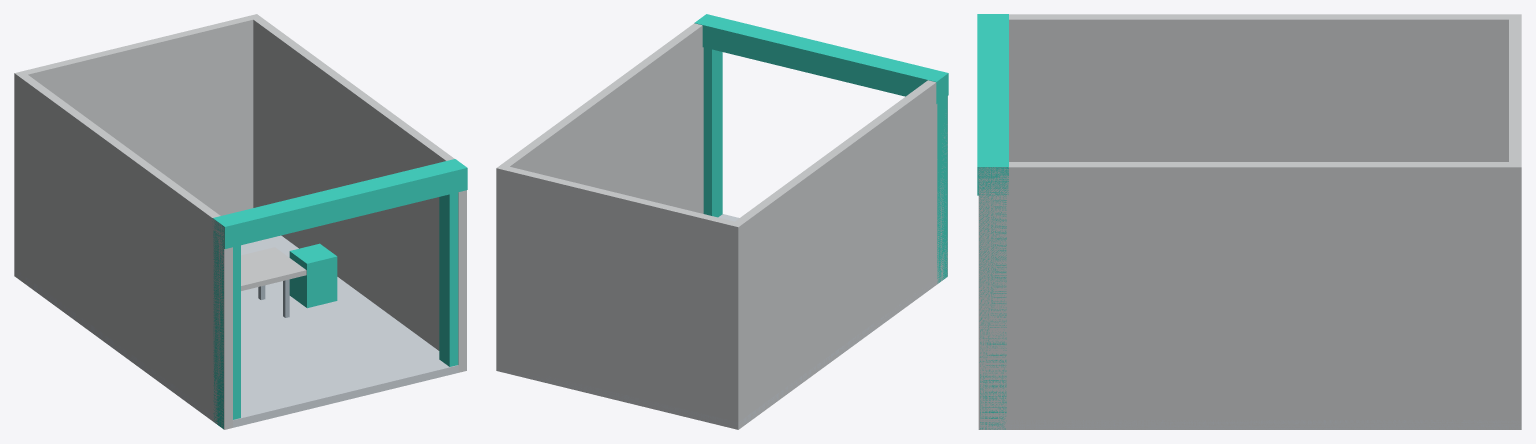
The picture shows the model from 3 angles, left to right: view 1: azimuth 30°, elevation 25°; view 2: azimuth 150°, elevation 25°; view 3: azimuth 270°, elevation 25°; orthographic projection. The views are drawn at different scales.
Parts seen in each view (by area): view 1: Exhibition Booth Concept; view 2: Exhibition Booth Concept; view 3: Exhibition Booth Concept.
Boxes of the visible parts, <box> form: Exhibition Booth Concept: <box>14,14,467,429</box>; Exhibition Booth Concept: <box>496,14,948,429</box>; Exhibition Booth Concept: <box>977,14,1521,429</box>.
Bounding box in the file's own units: 4 × 3.2 × 6.02.
